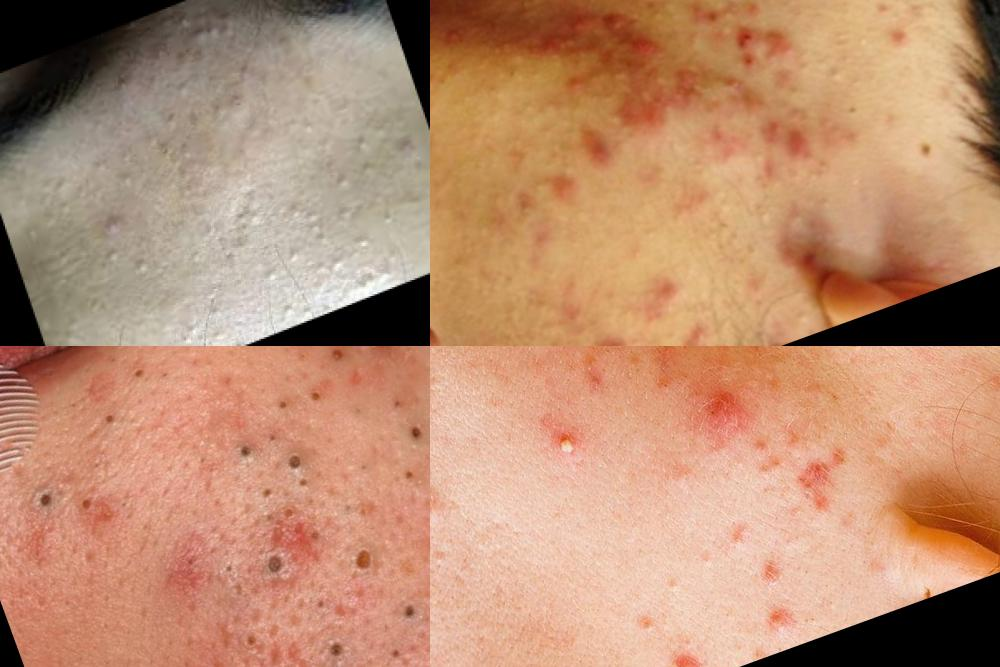blackhead: (614, 530, 743, 638), (224, 408, 319, 500), (265, 367, 356, 423), (744, 436, 803, 493), (236, 536, 298, 589), (19, 473, 80, 520), (212, 73, 260, 132), (386, 575, 431, 635), (796, 347, 876, 377), (316, 630, 378, 667), (76, 480, 119, 531), (145, 132, 192, 177), (395, 405, 431, 460), (342, 529, 383, 573), (126, 351, 160, 390), (104, 395, 136, 434)
folliculitis: (530, 403, 607, 483)
papular: (687, 365, 761, 443), (745, 581, 822, 654), (627, 259, 692, 314), (609, 20, 669, 77), (573, 120, 626, 177), (724, 13, 766, 71), (781, 126, 827, 173), (785, 241, 833, 284), (558, 1, 602, 42), (552, 168, 588, 208), (589, 321, 642, 347), (765, 26, 801, 62), (535, 1, 582, 10)
purulent: (431, 347, 451, 417)
whitehead: (21, 154, 99, 243), (169, 1, 262, 71), (339, 120, 394, 189), (100, 136, 148, 202), (808, 46, 855, 92), (744, 191, 783, 239), (494, 287, 535, 330), (299, 204, 334, 254), (126, 245, 162, 292), (776, 300, 819, 339), (253, 257, 291, 300), (513, 85, 554, 124), (311, 248, 354, 285), (778, 201, 819, 236), (846, 15, 878, 58), (807, 184, 843, 221), (95, 234, 125, 278), (675, 21, 713, 54), (713, 226, 745, 257), (674, 323, 714, 347), (329, 173, 359, 204), (353, 232, 380, 260), (283, 246, 308, 275), (773, 1, 809, 12)
